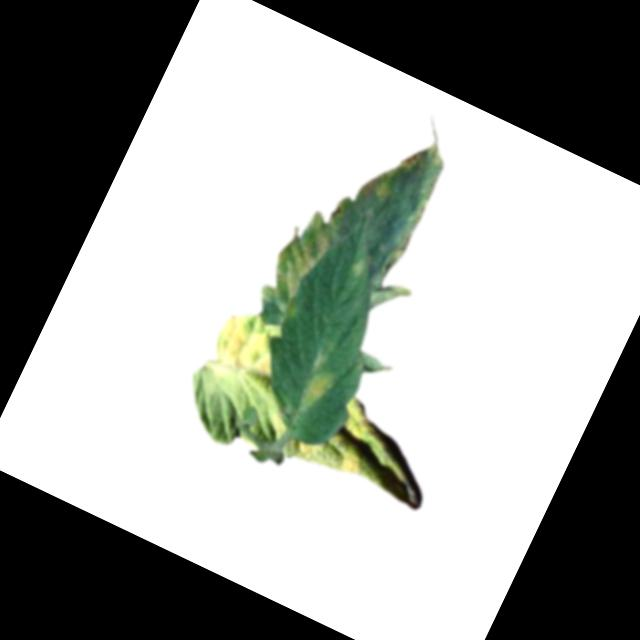Leaf_Mold: (285, 383, 431, 507), (253, 206, 341, 323), (204, 303, 288, 388), (351, 163, 399, 216), (293, 364, 336, 419), (397, 141, 431, 178)
